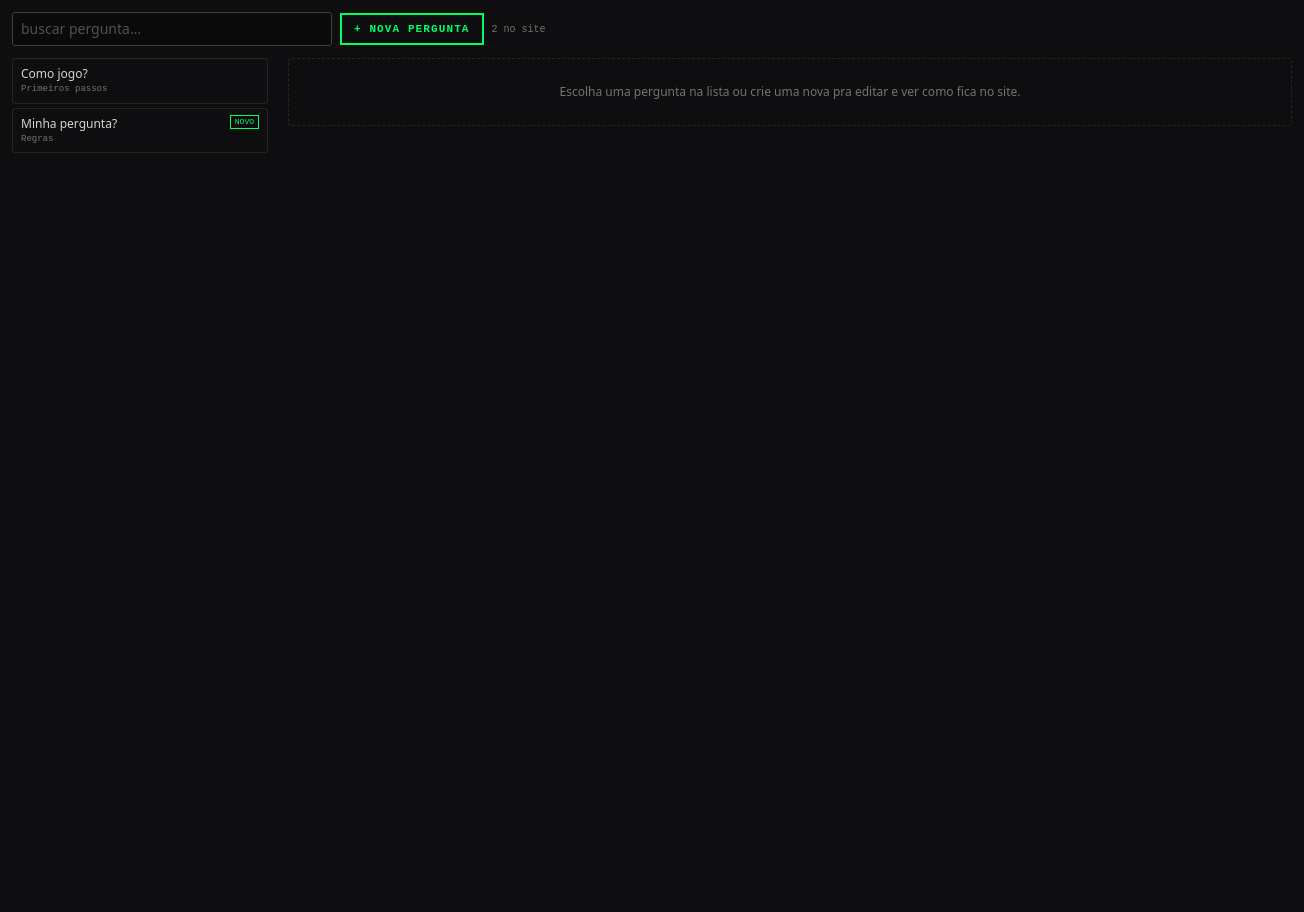
EditorConteudo › em produção o React esconde a mensagem: a tela mostra um texto amigável, não o boilerplate
Click the text "Como jogo?" at (54, 74), box x1=21 y1=65 x2=88 y2=82
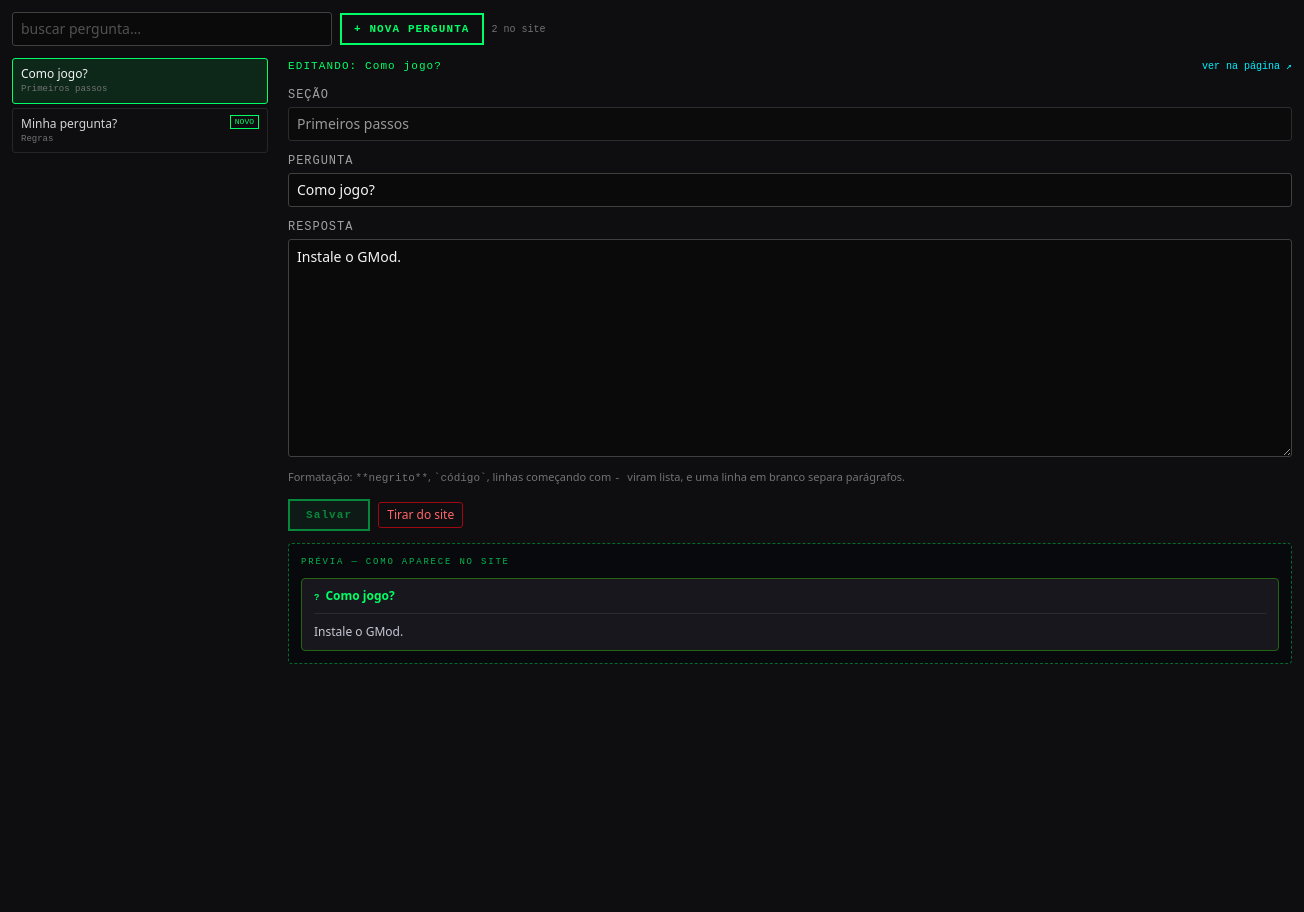
Replace the text in the text box labelled "Resposta" with "x" at (790, 348), box x1=288 y1=238 x2=1292 y2=457
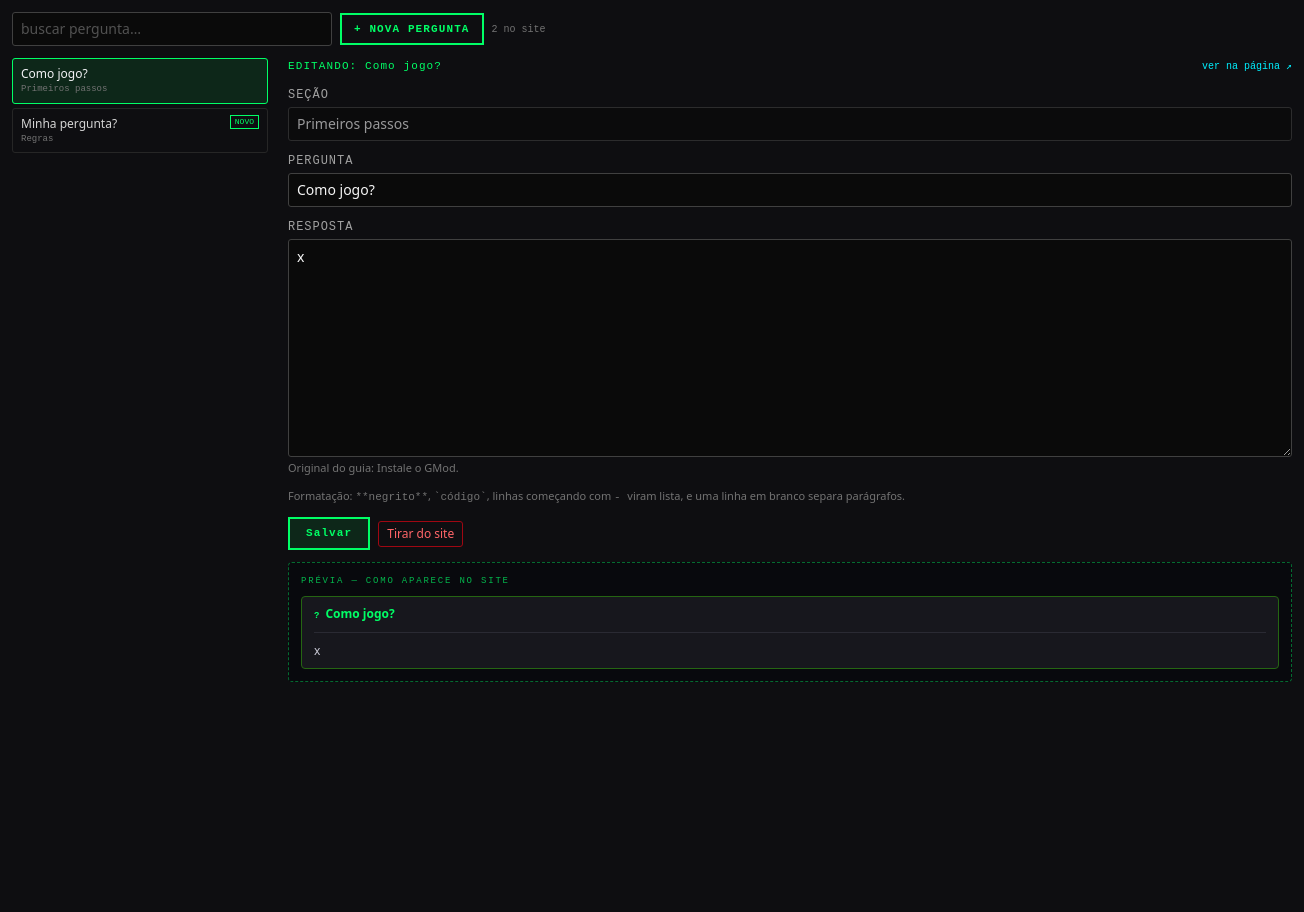
Click the button "Salvar" at (329, 534), box x1=288 y1=517 x2=370 y2=550
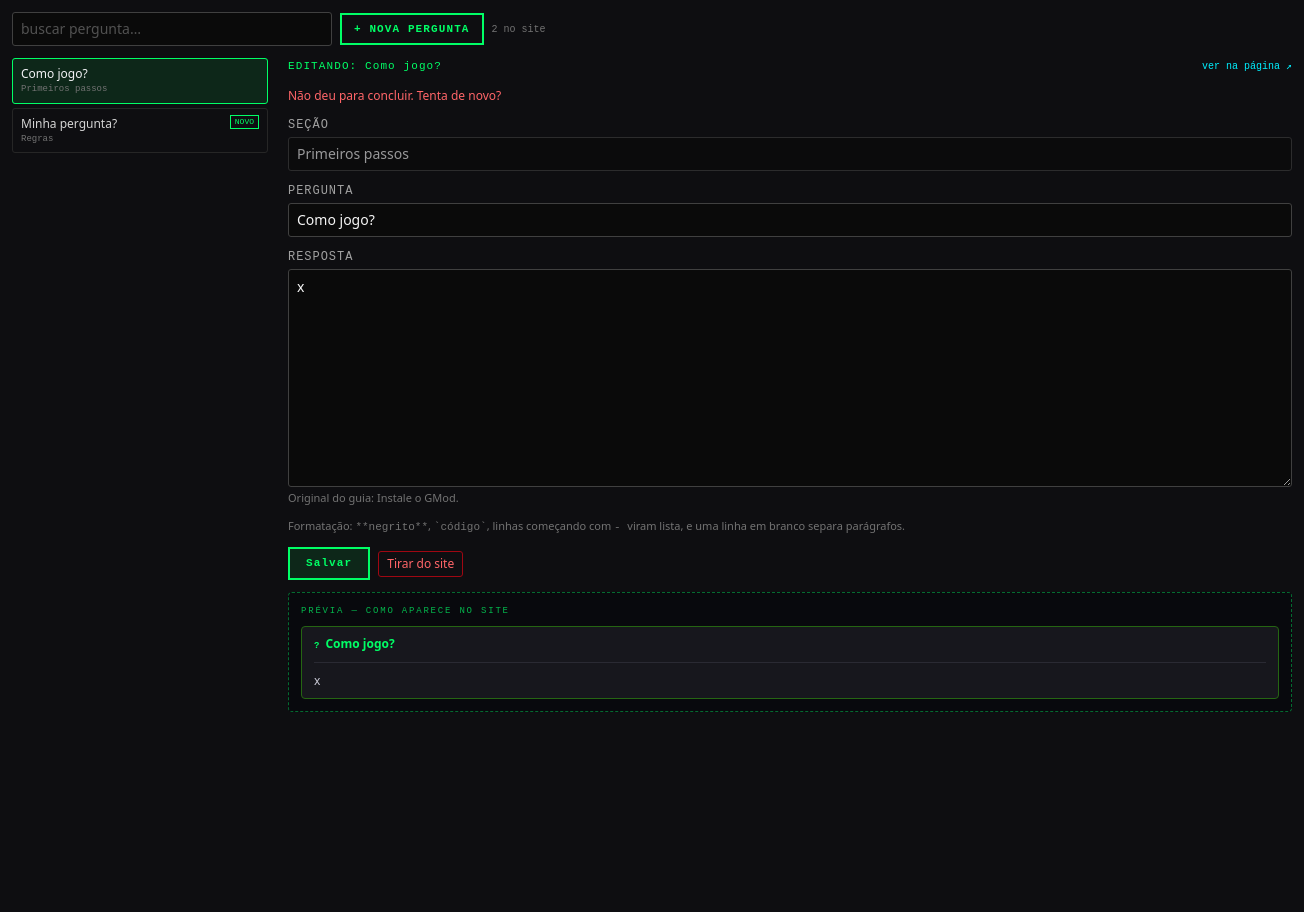
Expected: the message does not show "Server Components", x1=288 y1=86 x2=501 y2=104
Expected: the message shows "Tenta de novo", x1=288 y1=86 x2=501 y2=104
